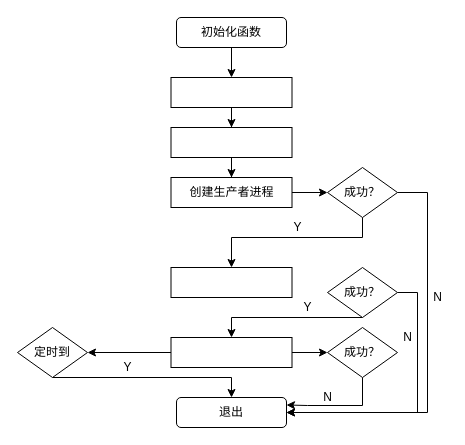
Some shapes in this 465 by 445 pixel diagram are drawn without their labels. Here are the shapes that lost their labels. From the top down, the centre of each, then its label:
point (231, 92): 初始化公共数据区
point (231, 142): 初始化信号量
point (231, 282): 创建消费者进程
point (231, 352): 创建统计进程
